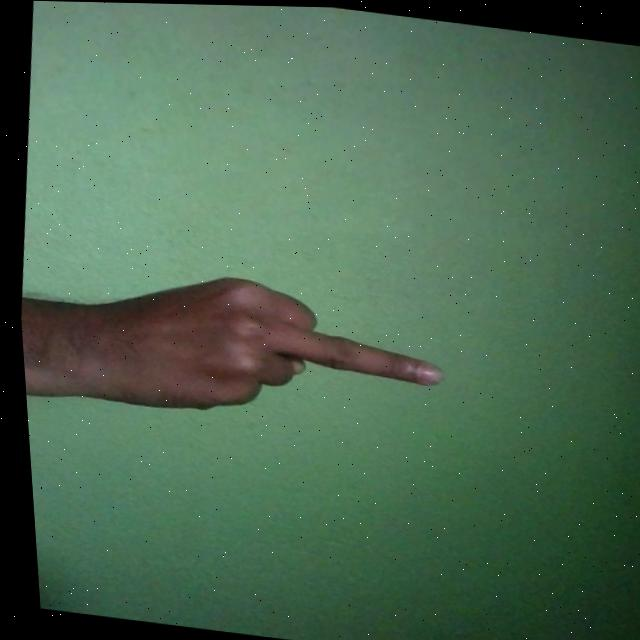Middle Finger: (14, 252, 451, 443)
